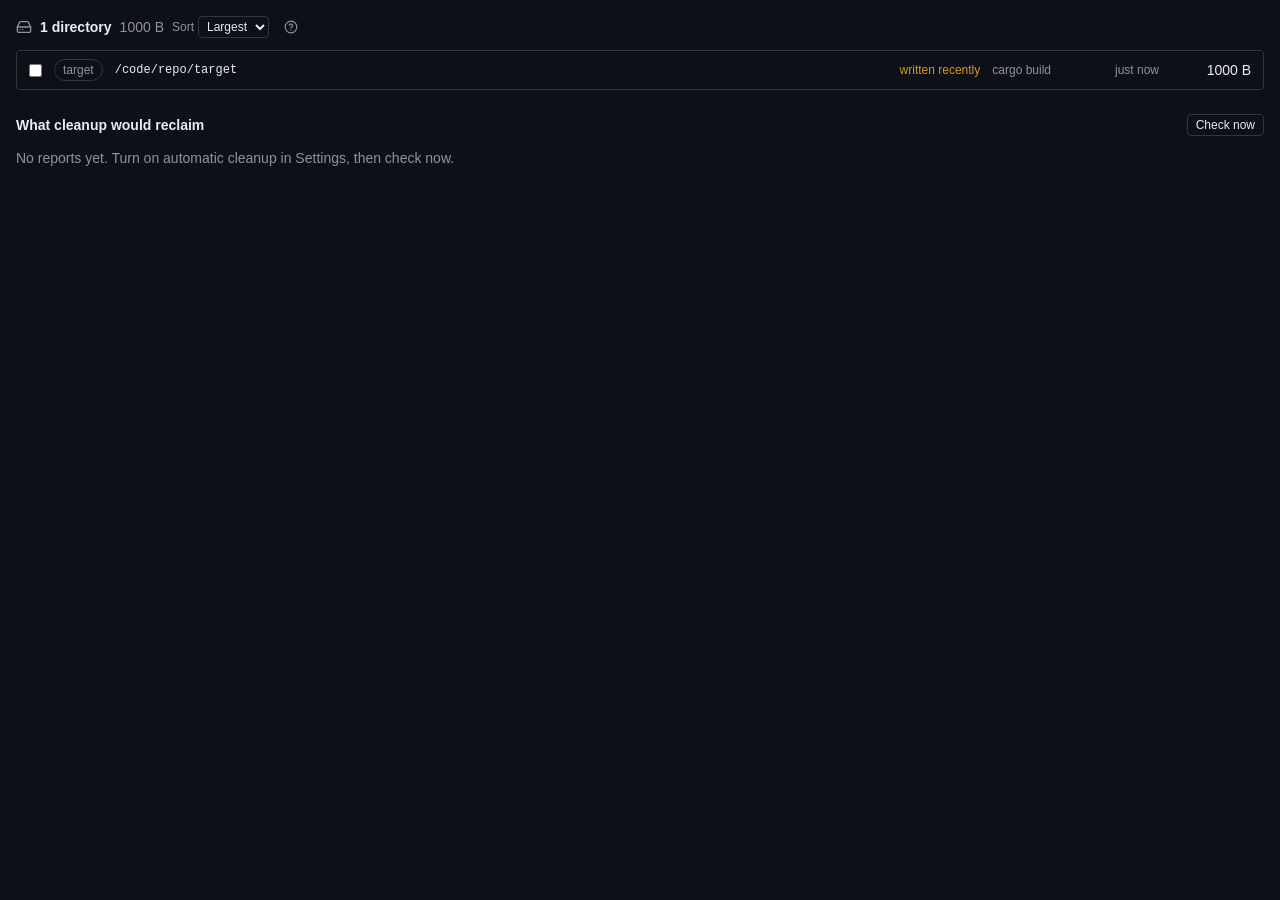
Test: ArtifactsPage removal › warns when a selected directory was written to recently
Click the checkbox named "Select": (36, 70) [29, 64, 42, 76]
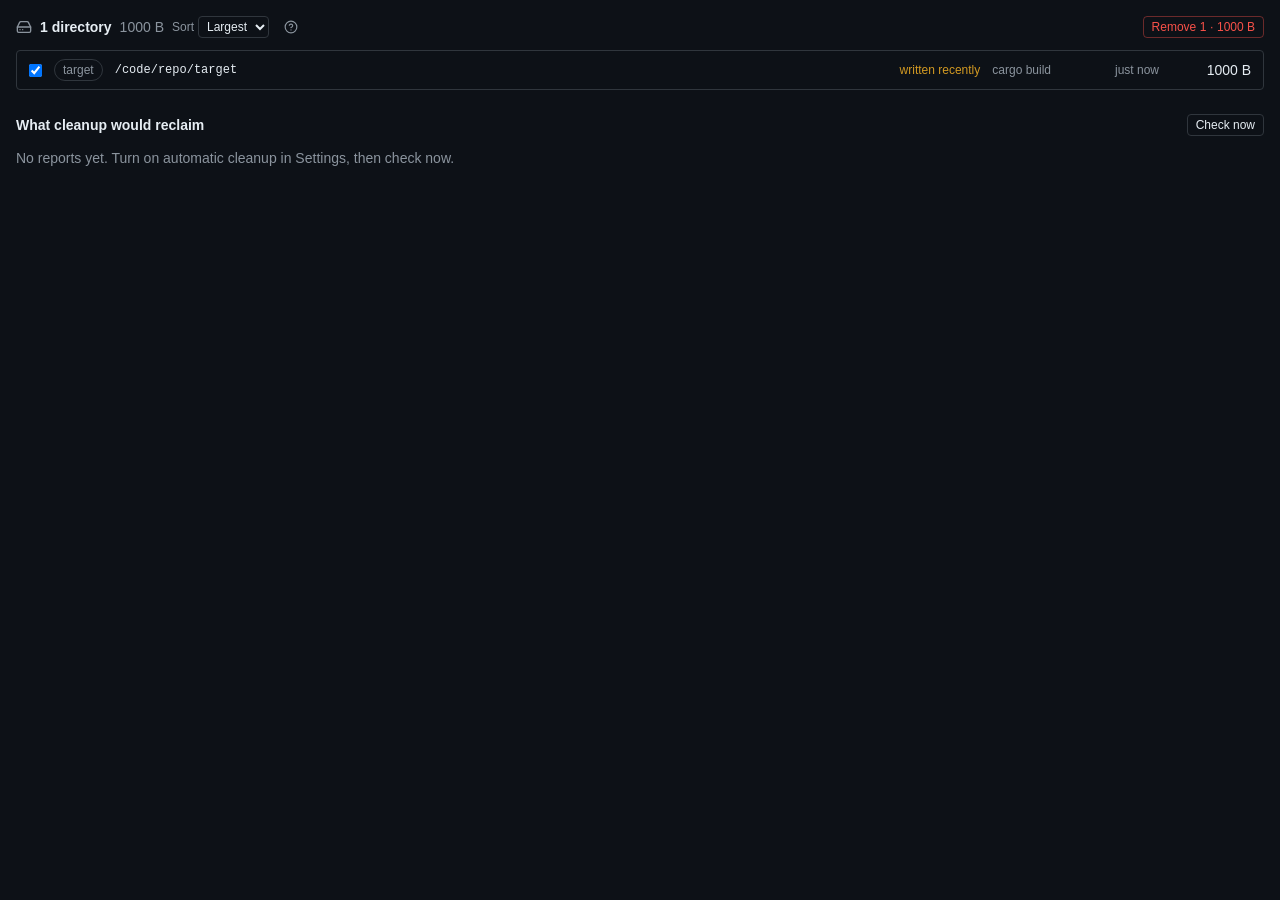
Click the button "Remove 1 · 1000 B": (1203, 27) [1143, 16, 1264, 38]
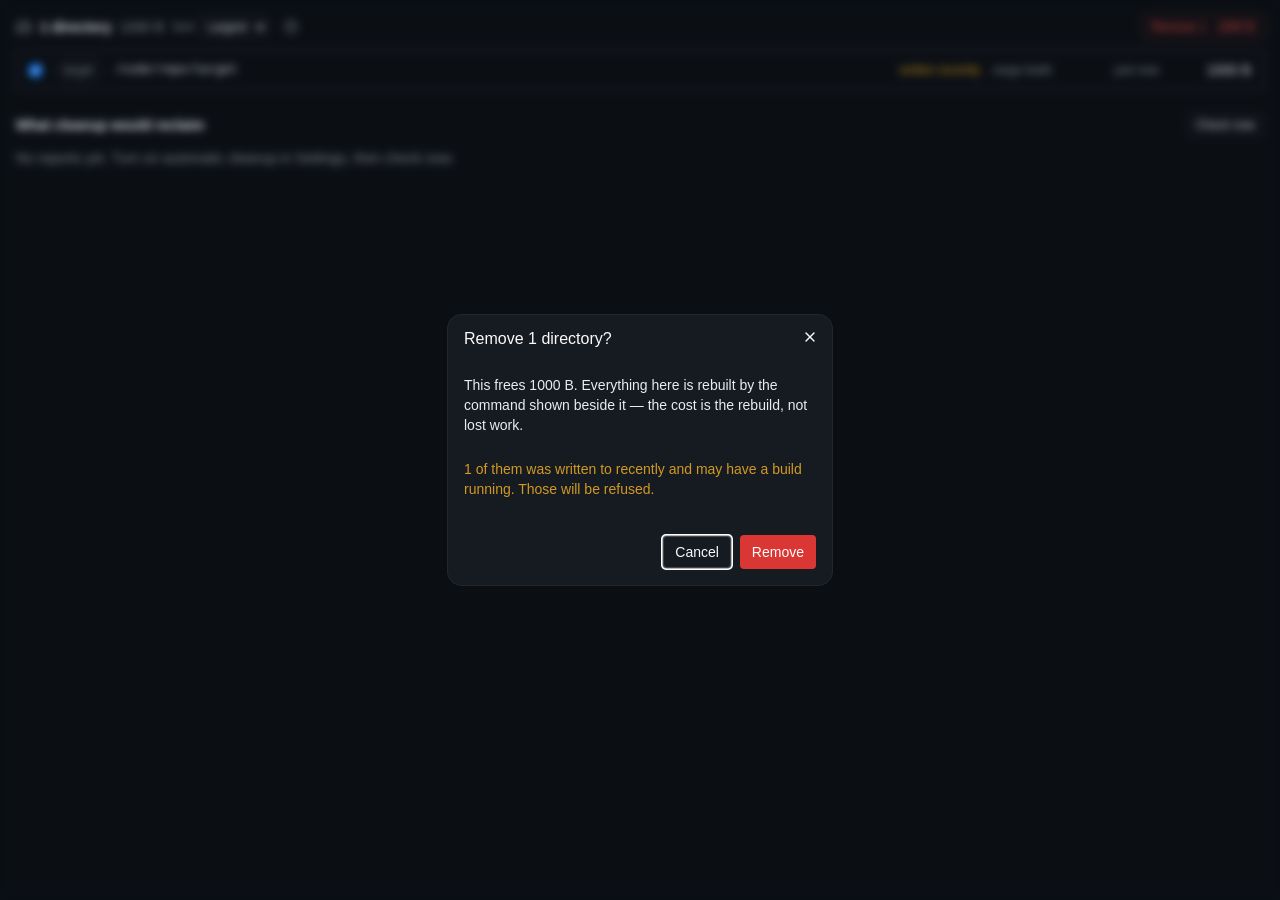
Now the text "may have a build running" is shown, box [464, 461, 802, 497]
